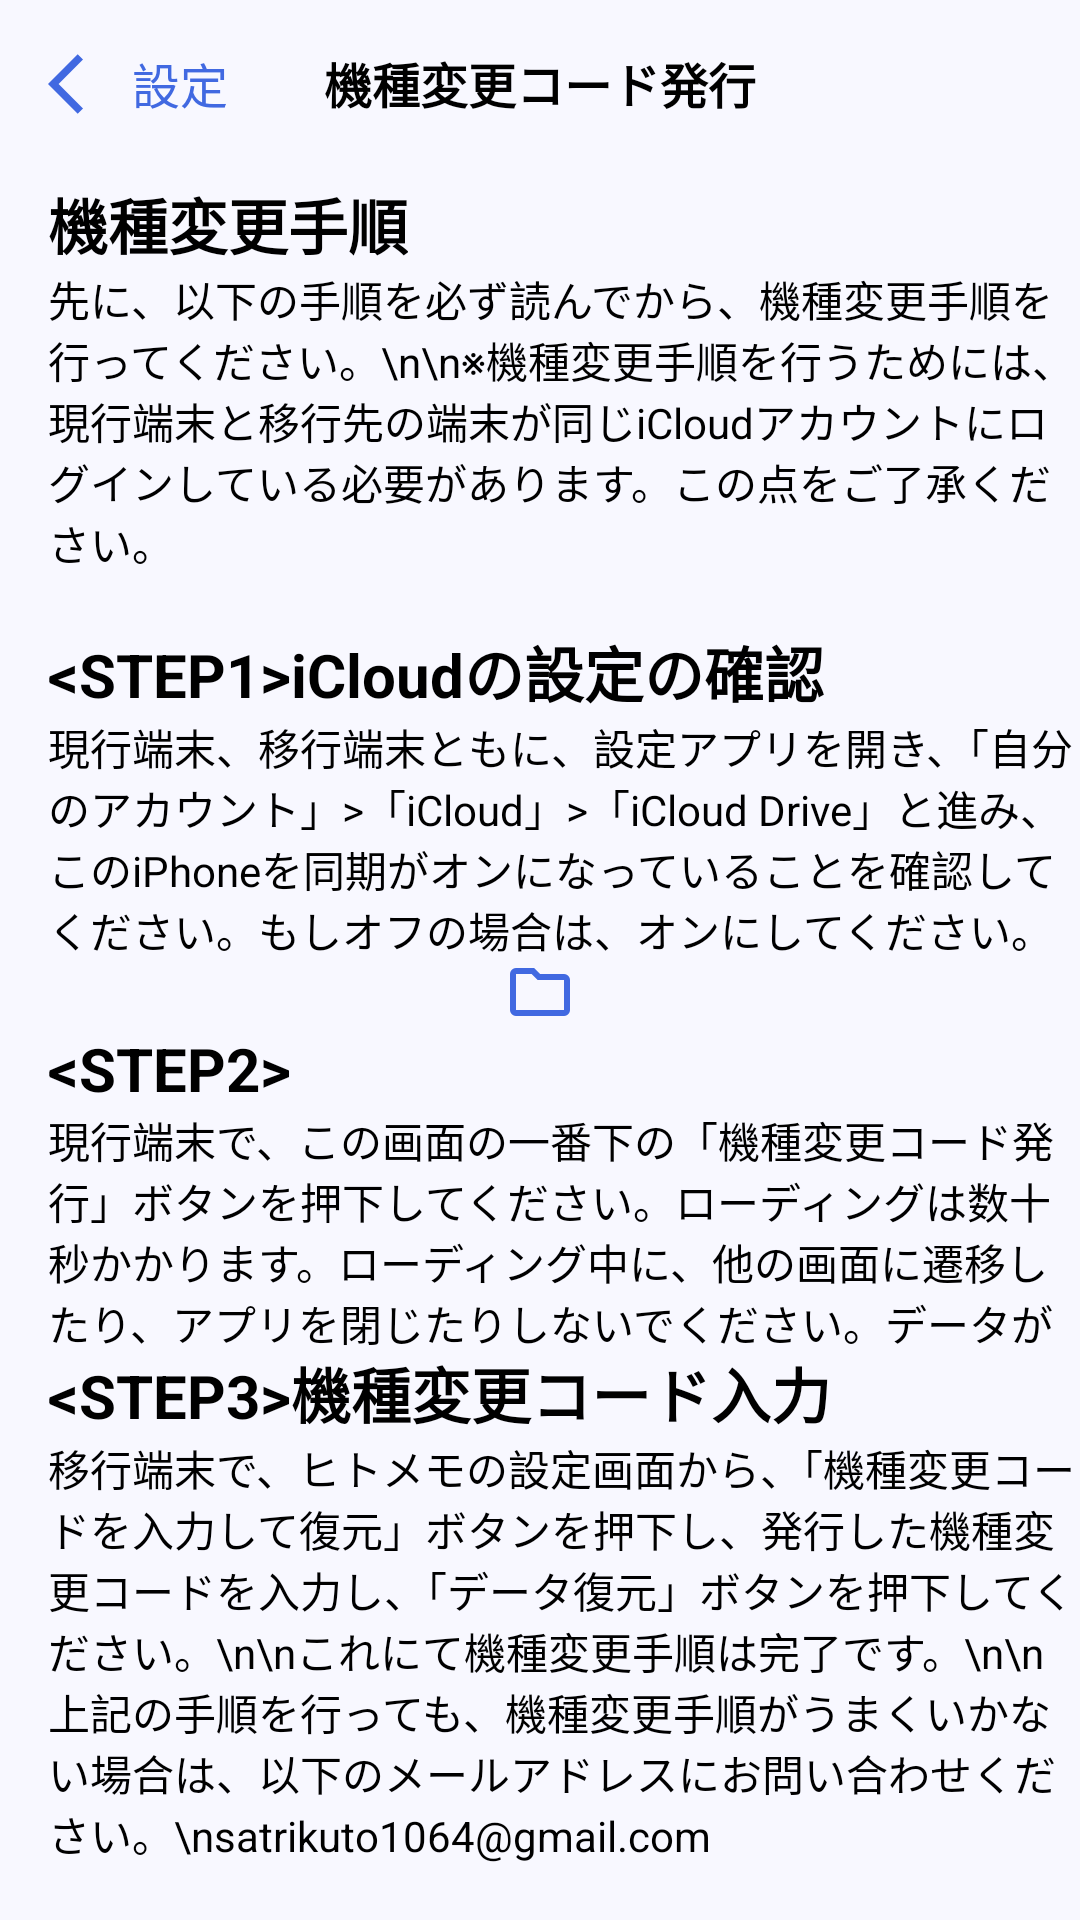

Icon bounding boxes for this 1080w x 1920h phone screenshot, format (x1, y1, x2, y2):
all folder ver: (510, 968, 570, 1016)
back: (48, 54, 83, 114)
